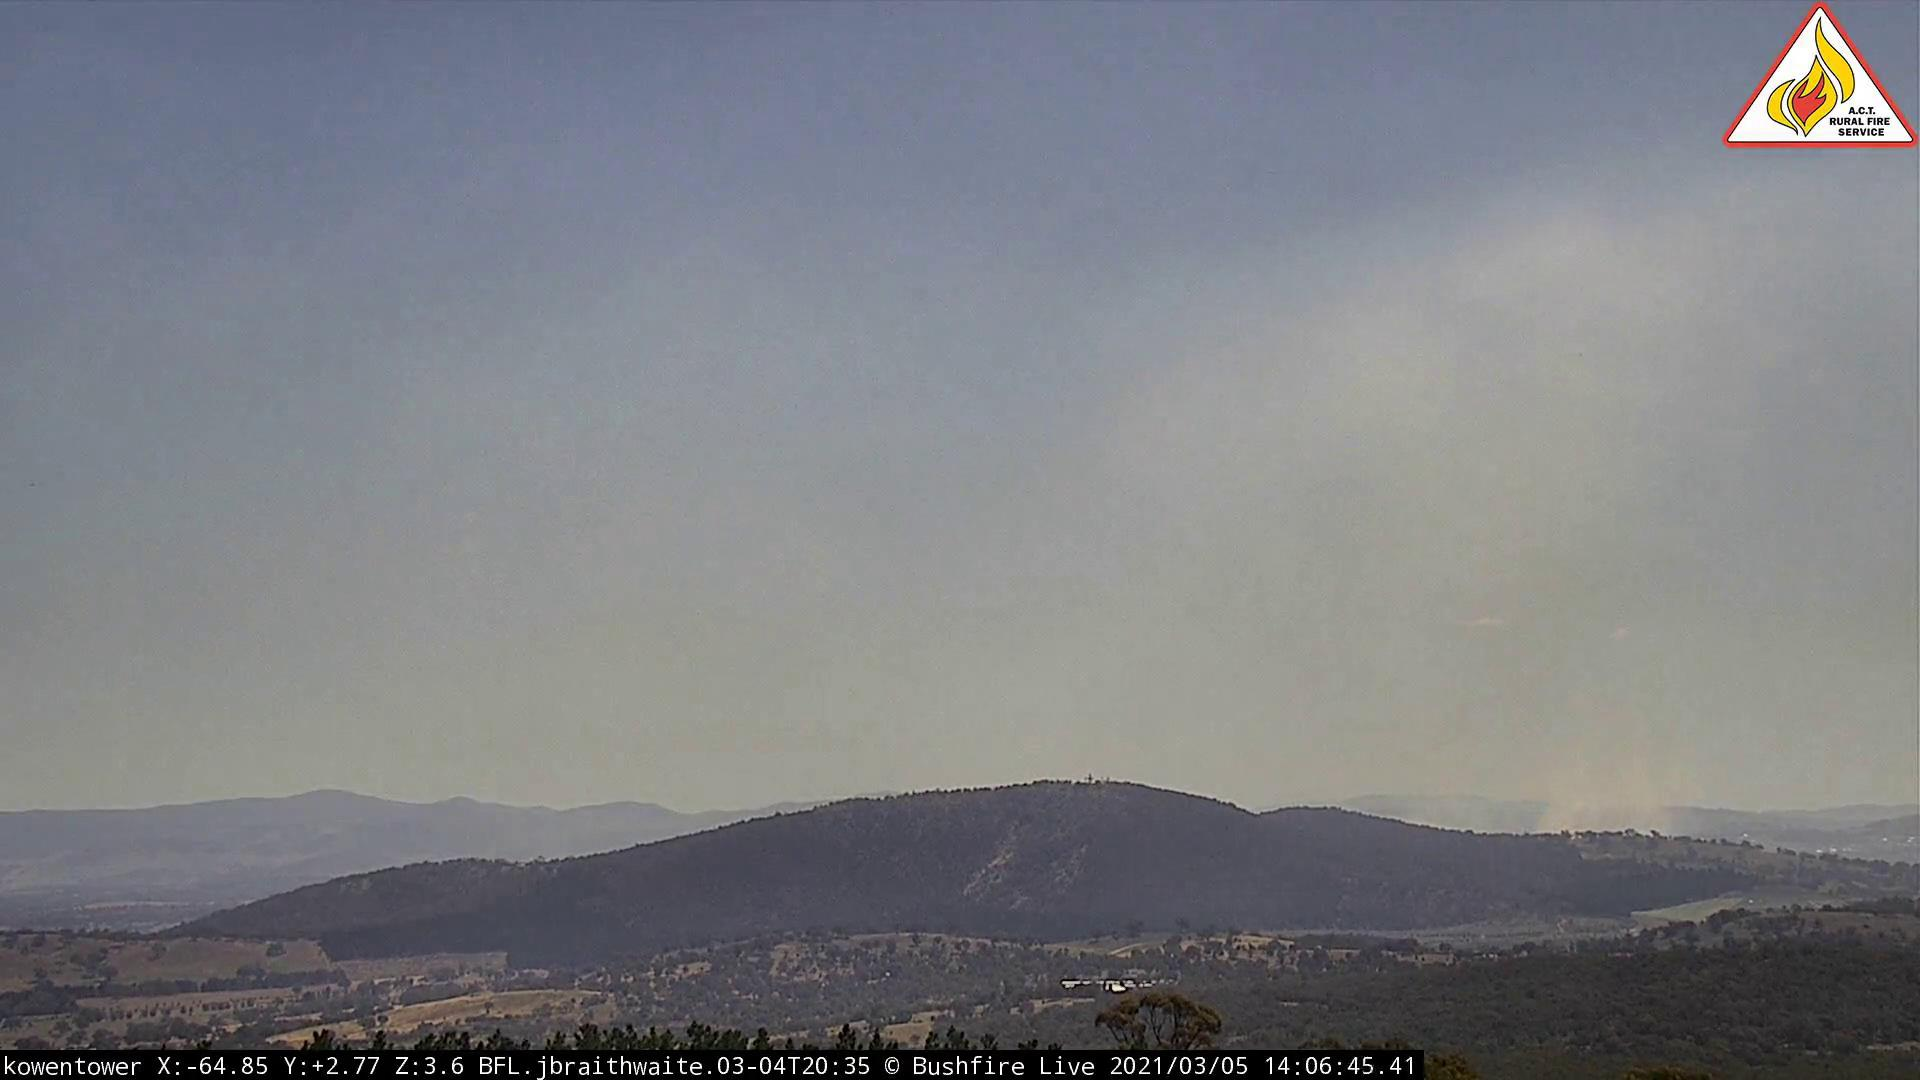instance_salient_object: (1385, 612, 1714, 843)
